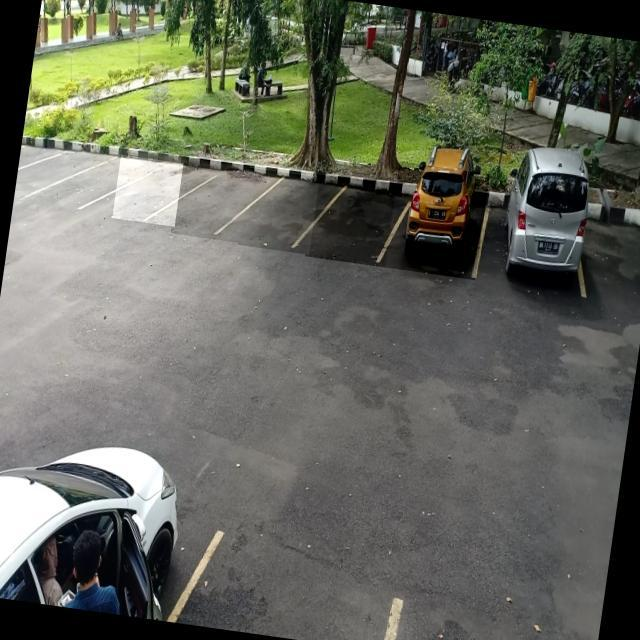empty: (304, 172, 404, 268), (238, 168, 320, 255), (170, 156, 250, 243), (111, 155, 183, 227), (56, 145, 122, 216)
occupied: (473, 168, 598, 308), (385, 162, 490, 280)
